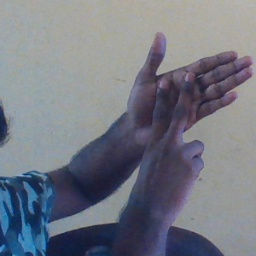N: (119, 28, 256, 184)
